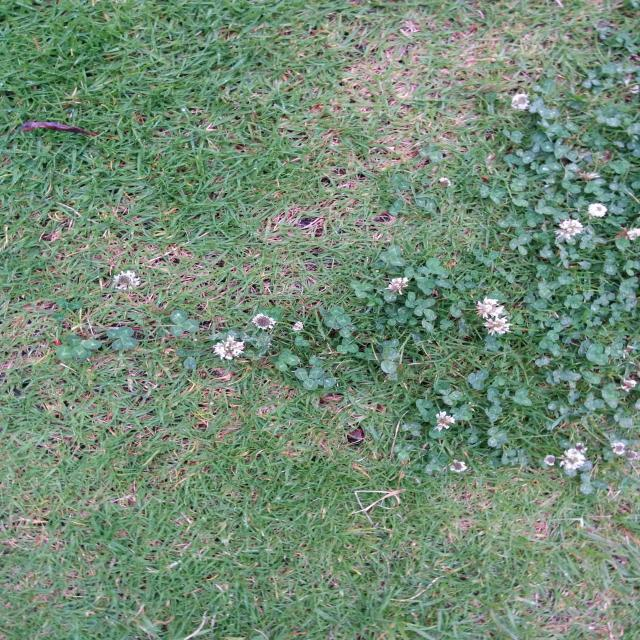Four Leaf Clover: (106, 326, 138, 350)
